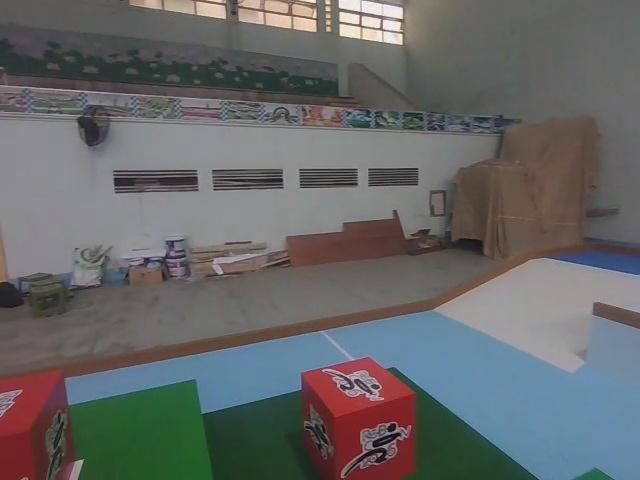R1: (301, 351, 417, 480), (0, 365, 77, 480)
